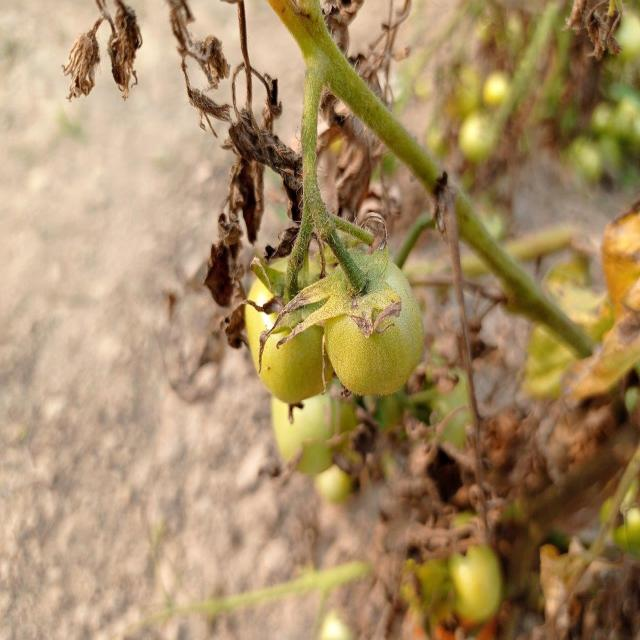Unripe: (326, 256, 424, 393)
